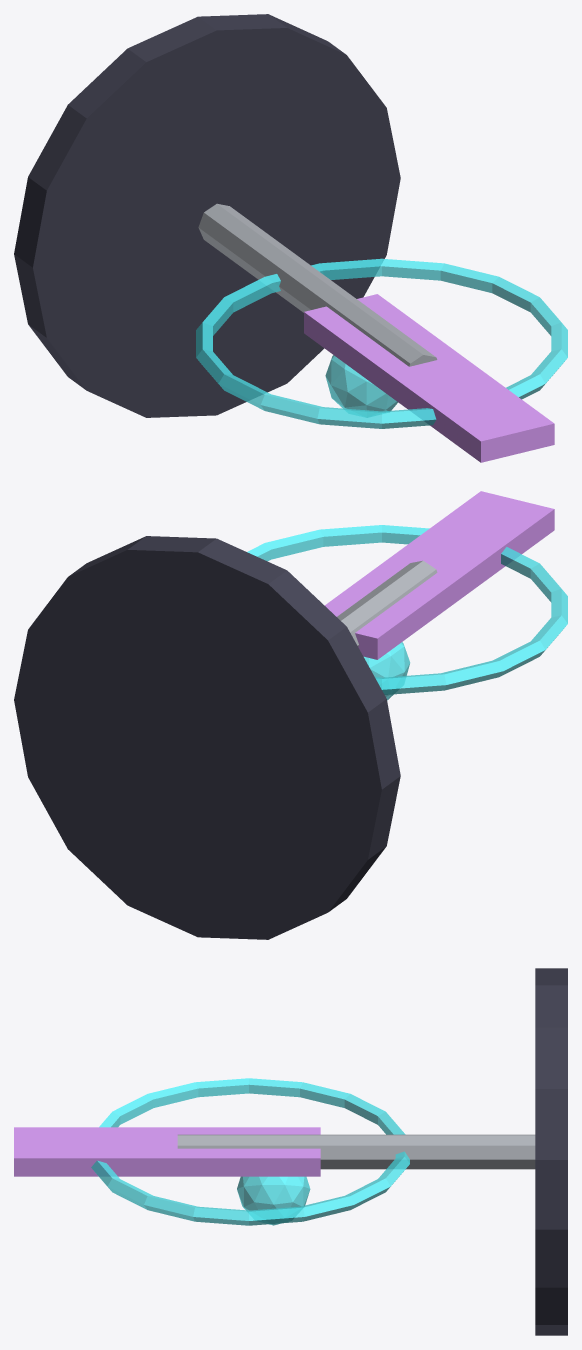
File: 01_item_weapon_finish_overlay_1.glb
3 views of the same model, one above another, from view 1: azimuth 30°, elevation 25°; view 2: azimuth 150°, elevation 25°; view 3: azimuth 270°, elevation 25° (orthographic). The views are drawn at different scales.
Visible parts, largest first — view 1: display_base, finish_blade_preview, finish_orbit, weapon_handle_preview, rarity_gem; view 2: display_base, finish_blade_preview, finish_orbit, weapon_handle_preview, rarity_gem; view 3: finish_blade_preview, display_base, finish_orbit, weapon_handle_preview, rarity_gem.
Boxes of the visible parts, <box> form: display_base: <box>14,14,400,417</box>; finish_blade_preview: <box>304,294,554,462</box>; finish_orbit: <box>196,258,567,428</box>; weapon_handle_preview: <box>198,203,437,366</box>; rarity_gem: <box>325,355,397,411</box>; display_base: <box>14,536,400,939</box>; finish_blade_preview: <box>325,491,554,659</box>; finish_orbit: <box>247,525,567,694</box>; weapon_handle_preview: <box>337,560,437,646</box>; rarity_gem: <box>364,642,410,700</box>; finish_blade_preview: <box>14,1127,320,1176</box>; display_base: <box>535,968,567,1335</box>; finish_orbit: <box>91,1078,409,1225</box>; weapon_handle_preview: <box>177,1134,535,1169</box>; rarity_gem: <box>237,1176,310,1225</box>.
Size of the model in its own units: 0.9 by 0.9 by 1.36.
